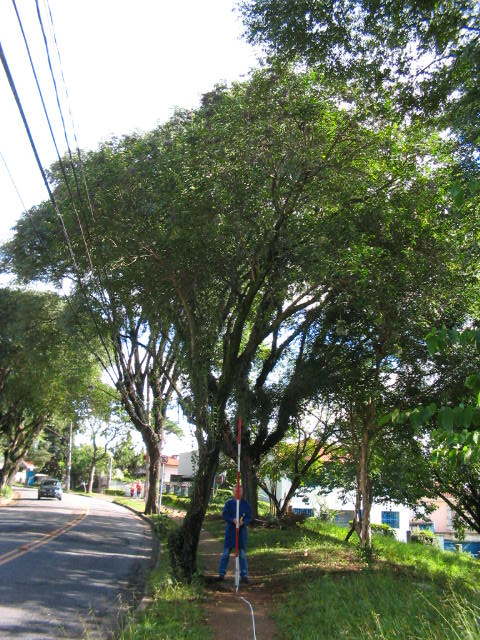crown: (4, 64, 474, 362)
stem: (173, 434, 224, 582)
stick: (228, 417, 250, 590)
tree: (1, 59, 477, 584)
